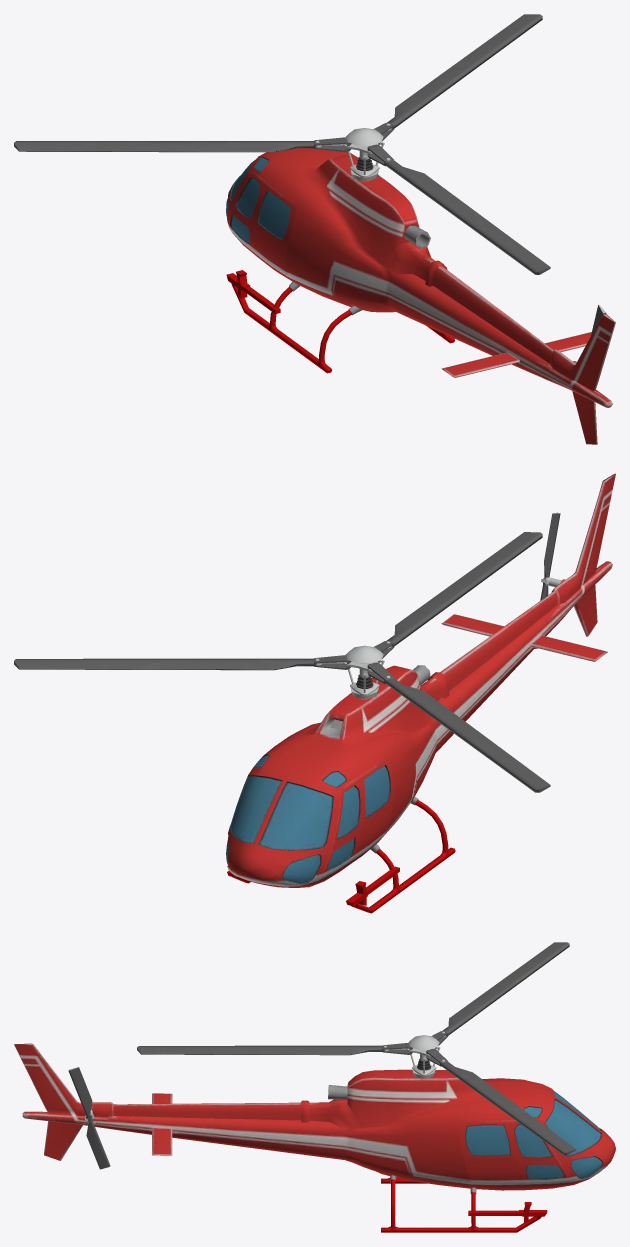
File: helicopter.glb
3 views of the same model, one above another, from view 1: azimuth 30°, elevation 25°; view 2: azimuth 150°, elevation 25°; view 3: azimuth 270°, elevation 25° (orthographic). The views are drawn at different scales.
Visible parts, largest first — view 1: helicopter_body, helicopter_rotor, patins_phong_couleur_claire_0, moyeu_arbre_phong_couleur_claire_0; view 2: helicopter_body, helicopter_rotor, patins_phong_couleur_claire_0, moyeu_arbre_phong_couleur_claire_0, helicopter_tail_rotor; view 3: helicopter_body, helicopter_rotor, patins_phong_couleur_claire_0, helicopter_tail_rotor, moyeu_arbre_phong_couleur_claire_0.
Boxes of the visible parts, x1=… form: helicopter_body: x1=226, y1=148, x2=615, y2=444; helicopter_rotor: x1=14, y1=14, x2=550, y2=274; patins_phong_couleur_claire_0: x1=226, y1=270, x2=454, y2=373; moyeu_arbre_phong_couleur_claire_0: x1=346, y1=128, x2=383, y2=180; helicopter_body: x1=226, y1=473, x2=615, y2=887; helicopter_rotor: x1=14, y1=532, x2=550, y2=792; patins_phong_couleur_claire_0: x1=227, y1=797, x2=455, y2=913; moyeu_arbre_phong_couleur_claire_0: x1=345, y1=645, x2=383, y2=698; helicopter_tail_rotor: x1=534, y1=512, x2=565, y2=648; helicopter_body: x1=14, y1=1043, x2=615, y2=1190; helicopter_rotor: x1=137, y1=942, x2=576, y2=1155; patins_phong_couleur_claire_0: x1=381, y1=1175, x2=547, y2=1232; helicopter_tail_rotor: x1=68, y1=1067, x2=110, y2=1169; moyeu_arbre_phong_couleur_claire_0: x1=408, y1=1035, x2=439, y2=1078.
Bounding box in the file's own units: 9.13 × 3.45 × 11.
Materials: 1 (1 with a texture image).
